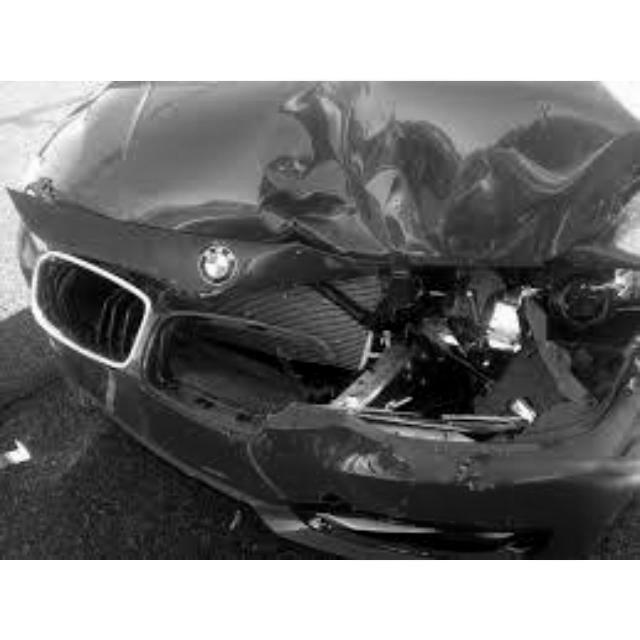bonnet-dent: (92, 106, 576, 261)
front-bumper-dent: (92, 261, 494, 448)
